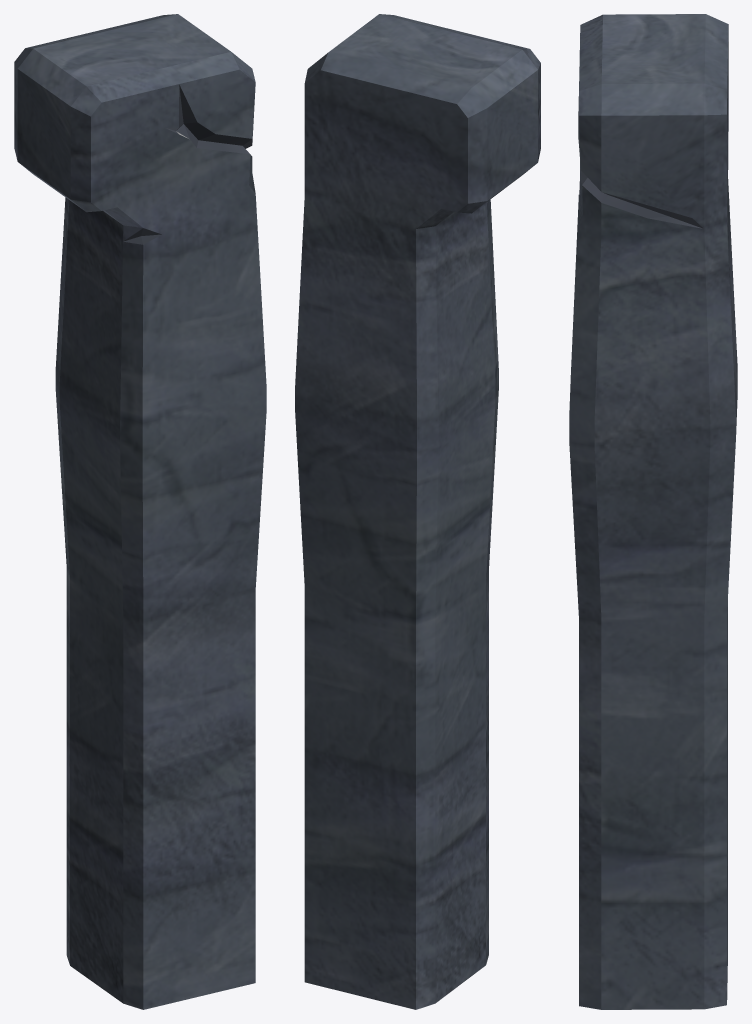
The model's file is StandColumn05.glb.
3 views of the same model, side by side, from view 1: azimuth 30°, elevation 25°; view 2: azimuth 150°, elevation 25°; view 3: azimuth 270°, elevation 25° (orthographic).
Visible parts, largest first — view 1: StandColumn05; view 2: StandColumn05; view 3: StandColumn05.
Boxes of the visible parts, x1=… form: StandColumn05: x1=14, y1=14, x2=266, y2=1009; StandColumn05: x1=295, y1=14, x2=540, y2=1009; StandColumn05: x1=569, y1=14, x2=737, y2=1009.
Size of what is drawn, in the model's own units: 2.62 by 12.3 by 2.05.
Materials: 1 (1 with a texture image).
